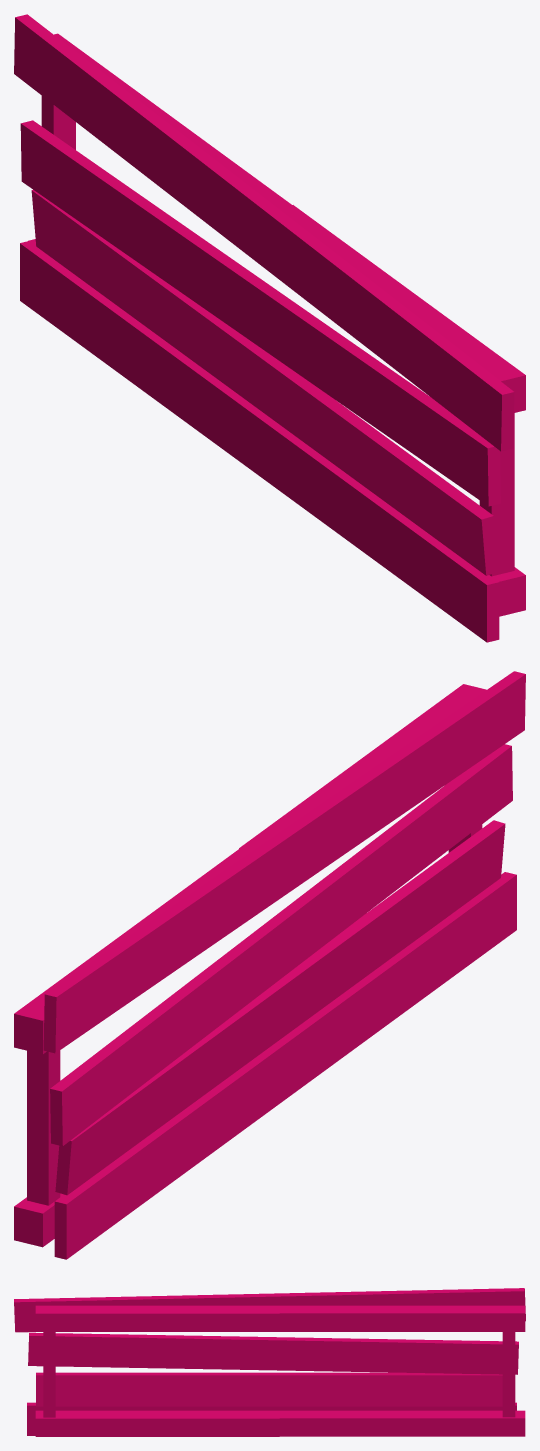
Rendered from Bastion_Fence_04_Lod0.fbx.
3 renders of one model, top to bottom at view 1: azimuth 30°, elevation 25°; view 2: azimuth 150°, elevation 25°; view 3: azimuth 270°, elevation 25°, orthographic. The views are drawn at different scales.
Visible parts, largest first — view 1: Bastion_Fence_04_Lod0; view 2: Bastion_Fence_04_Lod0; view 3: Bastion_Fence_04_Lod0.
Boxes of the visible parts, x1,y1,x2,y2 form: Bastion_Fence_04_Lod0: [14, 14, 525, 642]; Bastion_Fence_04_Lod0: [14, 671, 525, 1259]; Bastion_Fence_04_Lod0: [14, 1288, 525, 1436].
Size of the model in its own units: 17.46 by 98.02 by 313.
